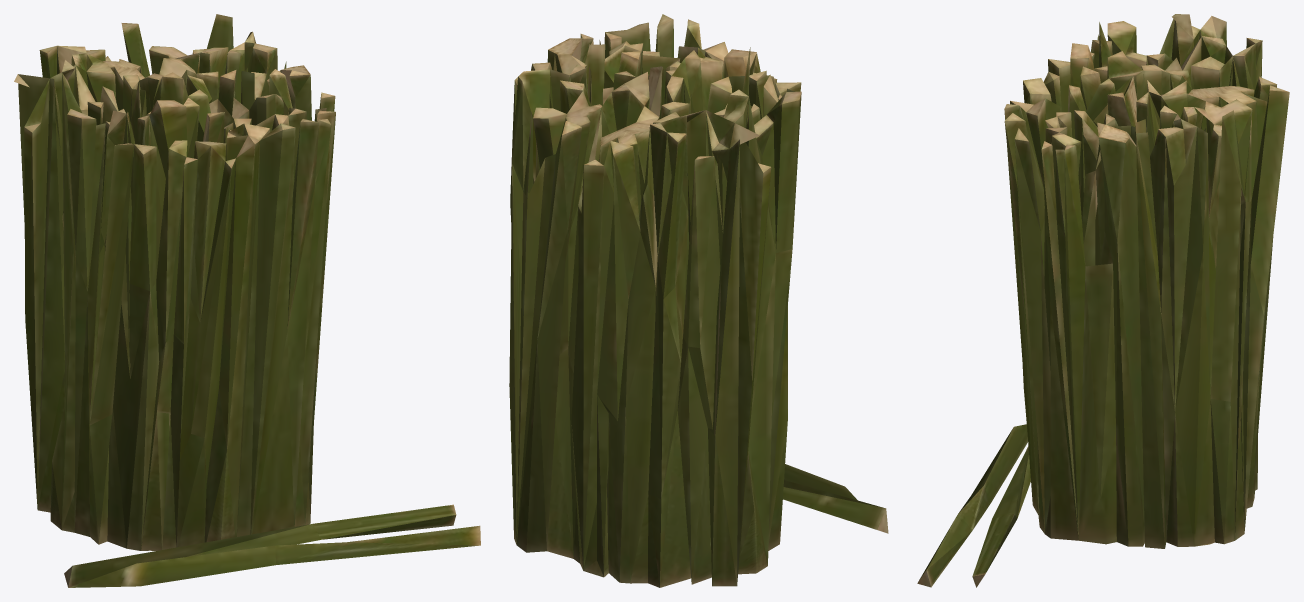
The model's file is junco_cortado_alto.glb.
The picture shows the model from 3 angles, left to right: view 1: azimuth 30°, elevation 25°; view 2: azimuth 150°, elevation 25°; view 3: azimuth 270°, elevation 25°; orthographic projection. The views are drawn at different scales.
Visible parts, largest first — view 1: alto; view 2: alto; view 3: alto.
Part boxes in pixels (x1,y1,x2,y2): alto: (14, 14, 480, 587); alto: (509, 14, 888, 587); alto: (917, 14, 1289, 587).
Bounding box in the file's own units: 0.2433 × 0.3 × 0.226.
1 material, 1 textured.
